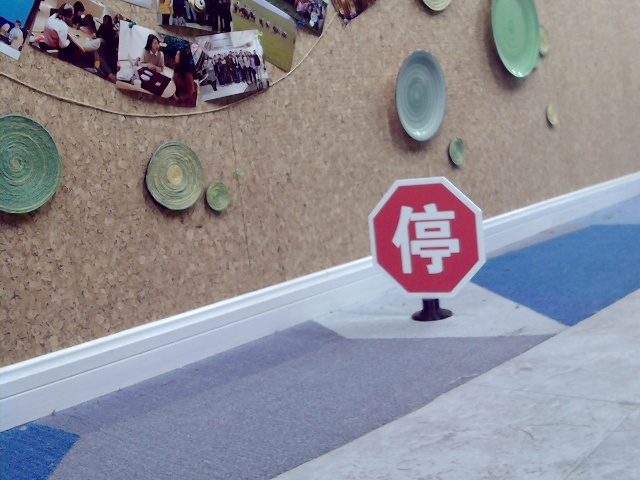stop: (386, 200, 462, 272)
